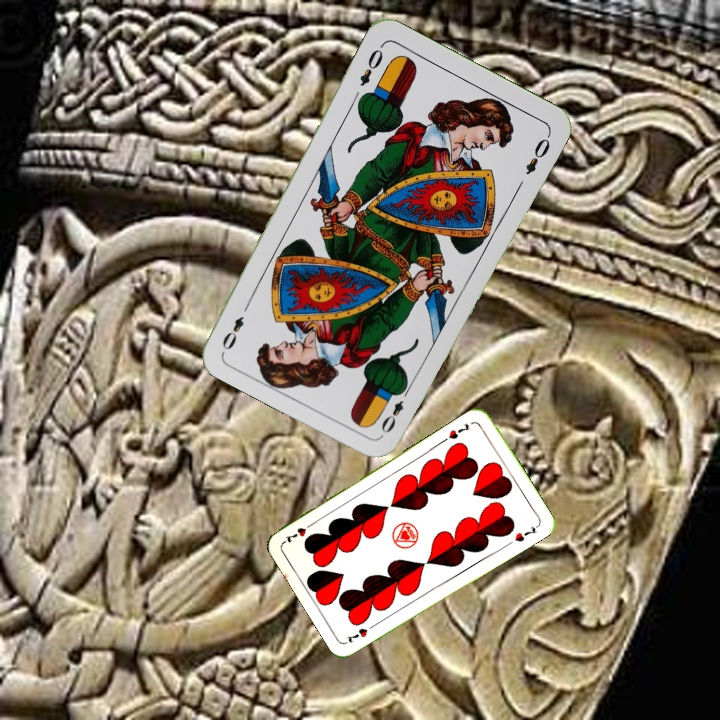EO: (376, 382, 413, 436), (355, 45, 386, 89)
H7: (342, 620, 379, 646), (444, 419, 472, 442)
